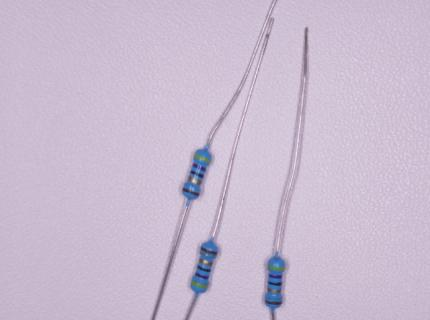Black band: (190, 170, 204, 179), (197, 265, 211, 272), (268, 281, 282, 286)
Brown band: (182, 187, 200, 197), (200, 246, 218, 255), (265, 298, 282, 305)
Gold band: (188, 177, 202, 186), (199, 258, 213, 266), (267, 288, 281, 294)
Violet band: (193, 163, 207, 172), (194, 272, 210, 279), (269, 274, 282, 279)
Yellow band: (194, 154, 211, 164), (191, 281, 208, 288), (268, 265, 285, 271)
